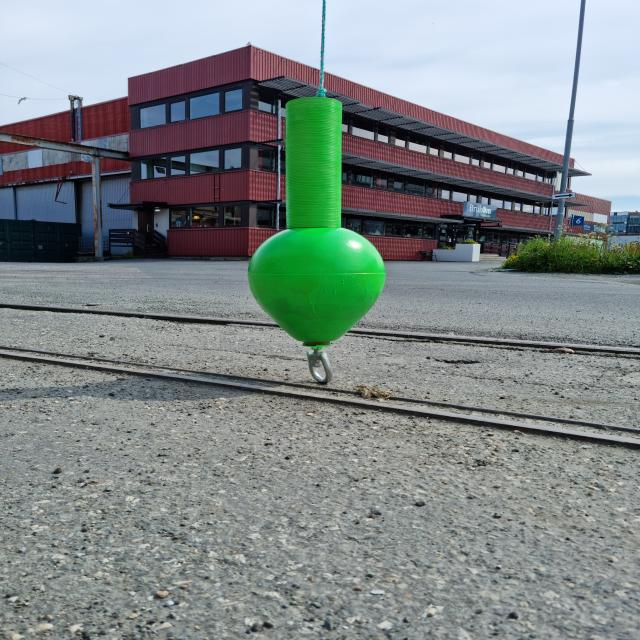green: (246, 99, 386, 344)
